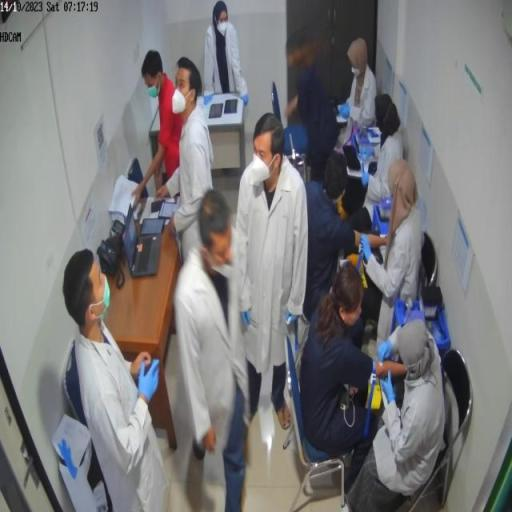person: (63, 248, 174, 508), (174, 189, 251, 511), (236, 113, 310, 431), (299, 262, 398, 494), (347, 319, 447, 510), (303, 153, 388, 323), (155, 56, 216, 264), (361, 161, 424, 339), (285, 41, 341, 184), (134, 50, 185, 200), (363, 98, 404, 227), (204, 1, 250, 108), (341, 38, 378, 147)
